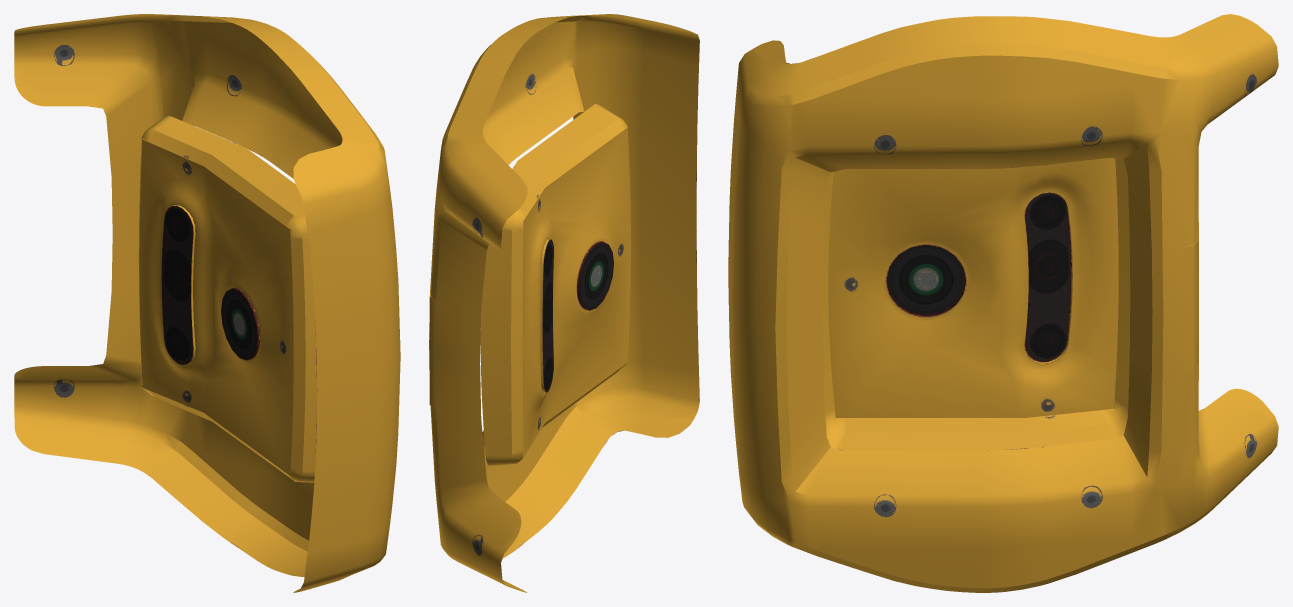
File: face_shell.obj
The picture shows the model from 3 angles, left to right: view 1: azimuth 30°, elevation 25°; view 2: azimuth 150°, elevation 25°; view 3: azimuth 270°, elevation 25°; orthographic projection. The views are drawn at different scales.
Size of the model in its own units: 0.0722 by 0.2198 by 0.1928.
